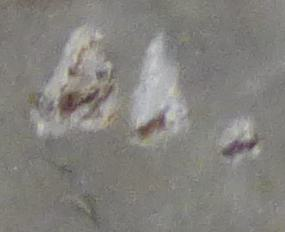Spalling: (30, 24, 121, 139), (124, 32, 189, 147), (218, 113, 262, 161)
